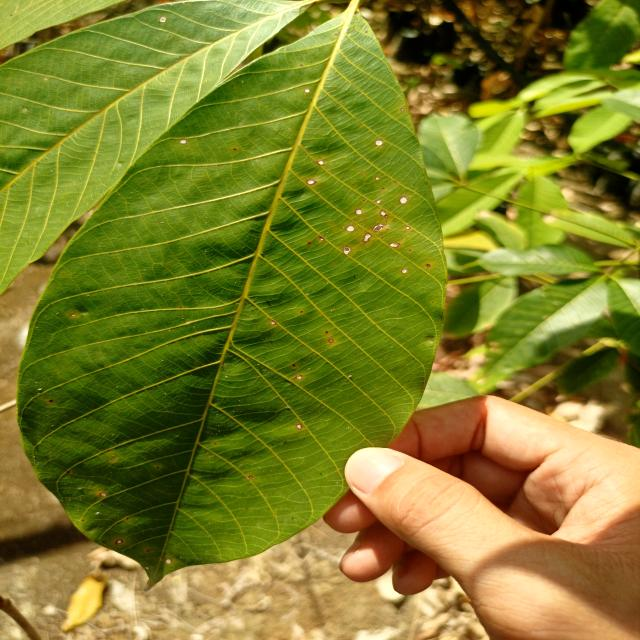Colletotrichum: (346, 225, 354, 232), (400, 196, 407, 204), (307, 179, 315, 185), (355, 209, 362, 215), (375, 140, 382, 146), (380, 210, 386, 216), (317, 160, 324, 165), (180, 139, 187, 144), (296, 375, 302, 379), (270, 321, 276, 325), (328, 339, 334, 343), (401, 269, 407, 273), (304, 89, 310, 93), (426, 264, 430, 268), (376, 200, 381, 203), (292, 364, 296, 367), (320, 237, 324, 240), (406, 226, 410, 229), (375, 177, 379, 180), (233, 148, 237, 151), (400, 108, 404, 111), (308, 242, 311, 245), (385, 215, 388, 218), (325, 331, 328, 333), (300, 311, 303, 313), (382, 188, 385, 190), (361, 172, 364, 174), (398, 243, 400, 245), (409, 250, 411, 252), (386, 229, 388, 230)
